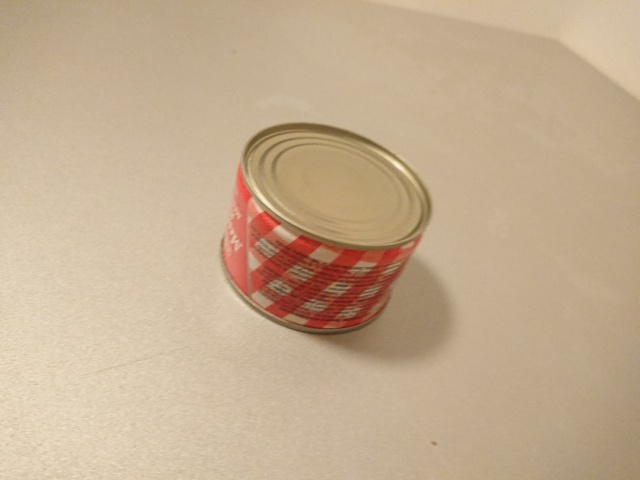Podravka Luncheon Meat 150g: (217, 120, 436, 337)
